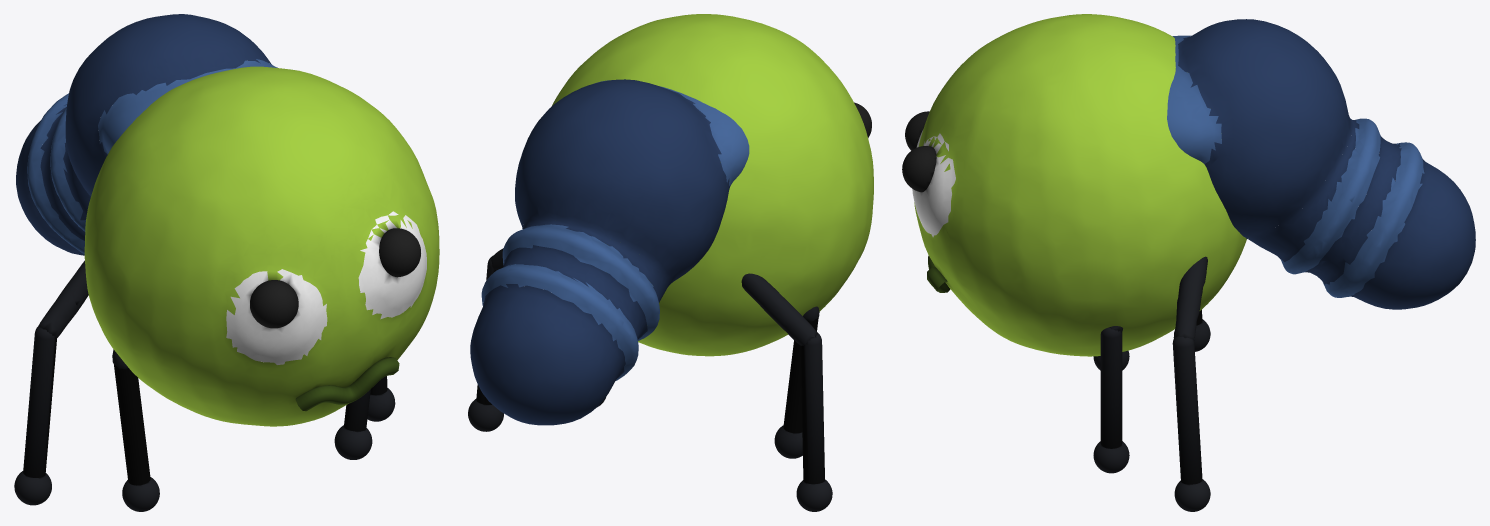
The model's file is jag-mar-illa.glb.
3 views of the same model, side by side, from view 1: azimuth 30°, elevation 25°; view 2: azimuth 150°, elevation 25°; view 3: azimuth 270°, elevation 25° (orthographic). The views are drawn at different scales.
Visible parts, largest first — view 1: cabeca__r0, borboleta__r0, borboleta__r8, borboleta__r6, cabeca__r1, cabeca__r2, cabeca__r3, borboleta__r3, borboleta__r1, borboleta__r7, borboleta__r2, borboleta__r5; view 2: borboleta__r0, cabeca__r0, borboleta__r8, borboleta__r6, borboleta__r1, borboleta__r5, borboleta__r7; view 3: cabeca__r0, borboleta__r0, borboleta__r4, borboleta__r2, cabeca__r3, borboleta__r5, borboleta__r3.
Boxes of the visible parts, x1,y1,x2,y2 form: cabeca__r0: (84,66,439,426); borboleta__r0: (16,14,277,369); borboleta__r8: (23,327,56,477); borboleta__r6: (114,361,150,485); cabeca__r1: (295,357,399,411); cabeca__r2: (250,280,298,328); cabeca__r3: (379,228,420,277); borboleta__r3: (334,425,372,459); borboleta__r1: (14,471,51,505); borboleta__r7: (122,477,159,511); borboleta__r2: (344,389,370,431); borboleta__r5: (367,388,395,421); borboleta__r0: (470,79,819,425); cabeca__r0: (552,14,873,356); borboleta__r8: (800,333,824,484); borboleta__r6: (783,314,818,433); borboleta__r1: (796,479,832,511); borboleta__r5: (468,399,503,431); borboleta__r7: (774,425,802,458); cabeca__r0: (912,14,1246,356); borboleta__r0: (1109,19,1475,341); borboleta__r4: (1172,336,1202,484); borboleta__r2: (1100,327,1122,448); cabeca__r3: (902,146,936,192); borboleta__r5: (1174,479,1210,511); borboleta__r3: (1093,441,1129,473).
Size of the model in its own units: 0.552 by 0.5884 by 0.7643.
